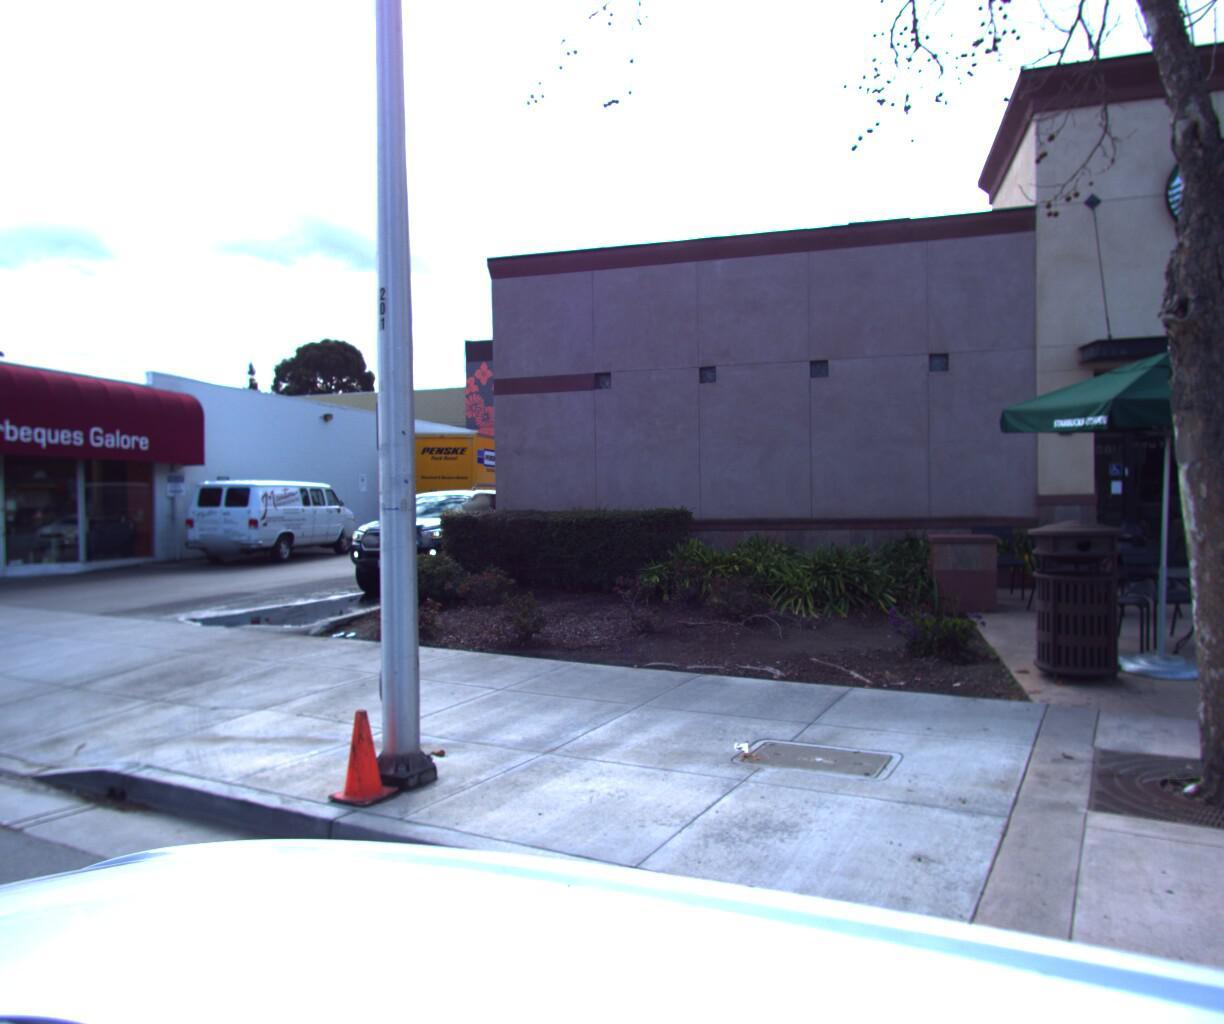car: (333, 485, 561, 600), (177, 474, 365, 564)
